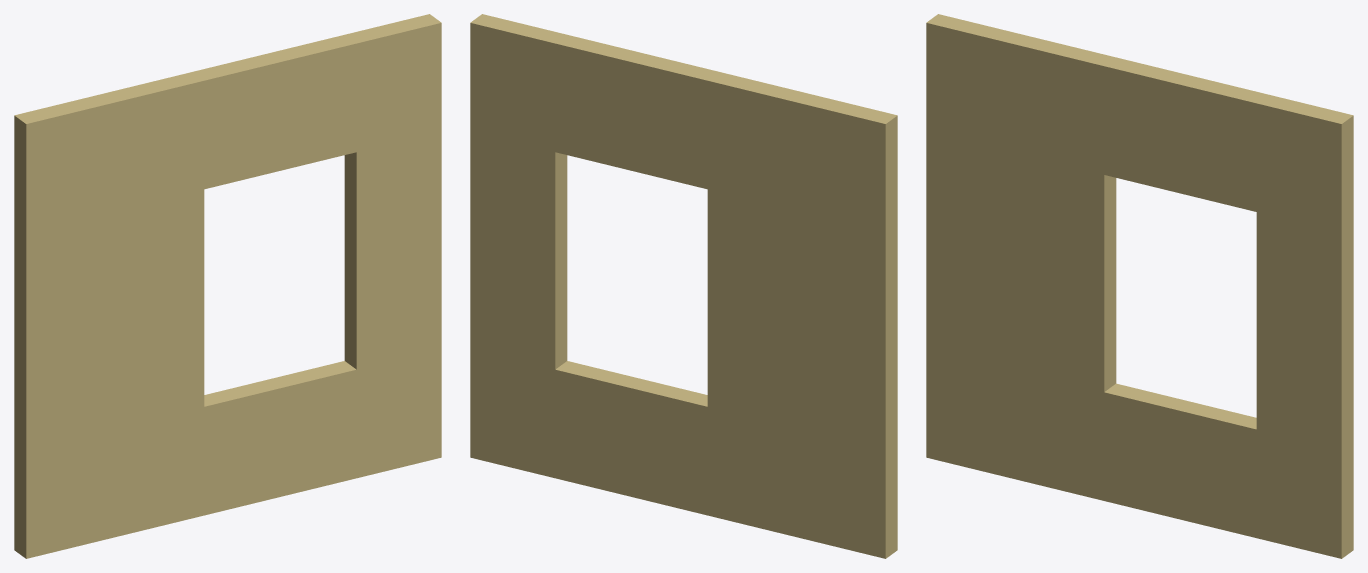
The model's file is Wal_6_D.fbx.
3 renders of one model, left to right at view 1: azimuth 30°, elevation 25°; view 2: azimuth 150°, elevation 25°; view 3: azimuth 330°, elevation 25°, orthographic.
Visible parts, largest first — view 1: pCube57; view 2: pCube57; view 3: pCube57.
Boxes of the visible parts, x1=… form: pCube57: x1=14, y1=14, x2=441, y2=558; pCube57: x1=470, y1=14, x2=897, y2=558; pCube57: x1=926, y1=14, x2=1353, y2=558.
Size of the model in its own units: 4 by 4 by 0.2.
1 material, 1 textured.
